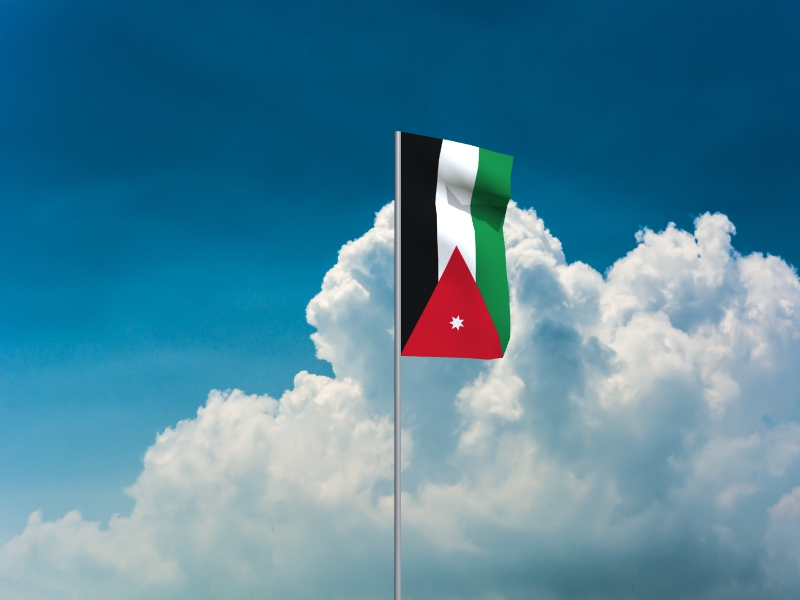jo: (402, 132, 515, 361)
